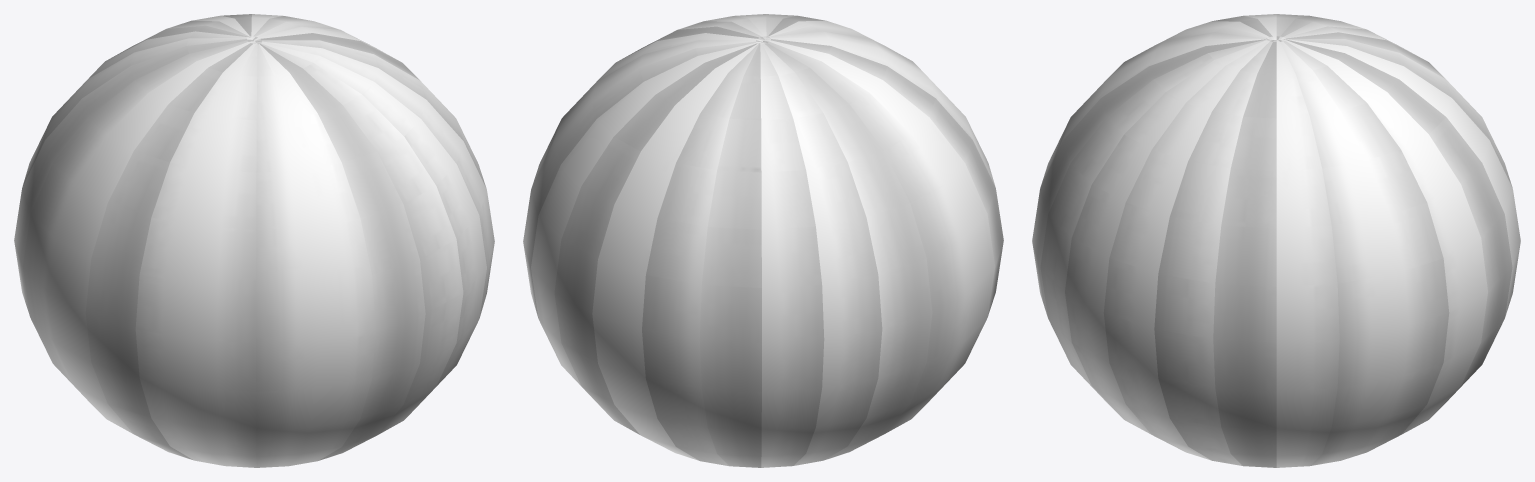
File: original-16.obj
3 renders of one model, left to right at view 1: azimuth 30°, elevation 25°; view 2: azimuth 150°, elevation 25°; view 3: azimuth 270°, elevation 25°, orthographic.
Visible parts, largest first — view 1: mesh10/mesh10-geometry#mesh10-geometry; view 2: mesh10/mesh10-geometry#mesh10-geometry; view 3: mesh10/mesh10-geometry#mesh10-geometry.
Boxes of the visible parts, x1=… form: mesh10/mesh10-geometry#mesh10-geometry: x1=14, y1=14, x2=494, y2=467; mesh10/mesh10-geometry#mesh10-geometry: x1=523, y1=14, x2=1003, y2=467; mesh10/mesh10-geometry#mesh10-geometry: x1=1032, y1=14, x2=1520, y2=467.
Size of the model in its own units: 0.1016 by 0.094 by 0.1032.
